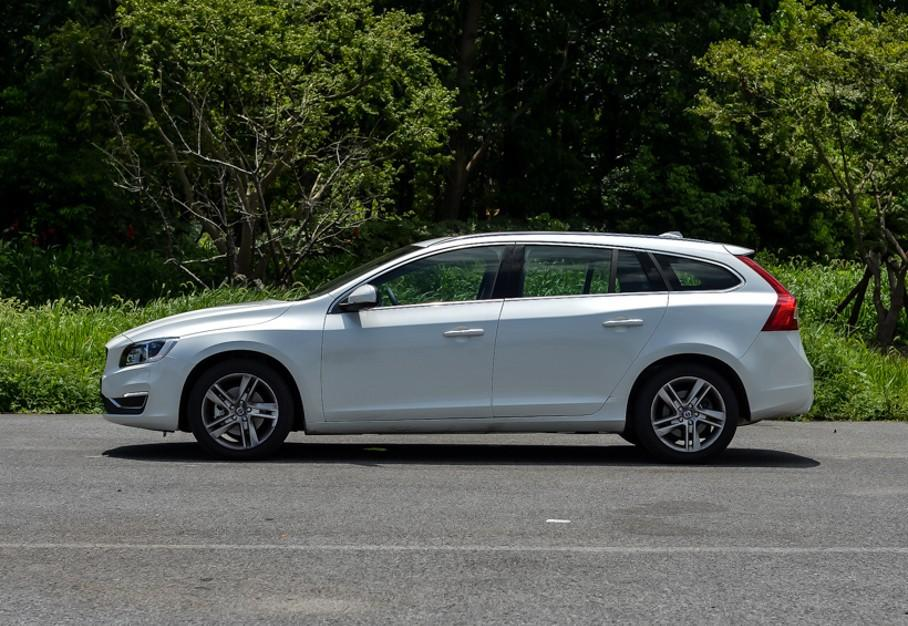Wagon: (100, 231, 814, 463)
